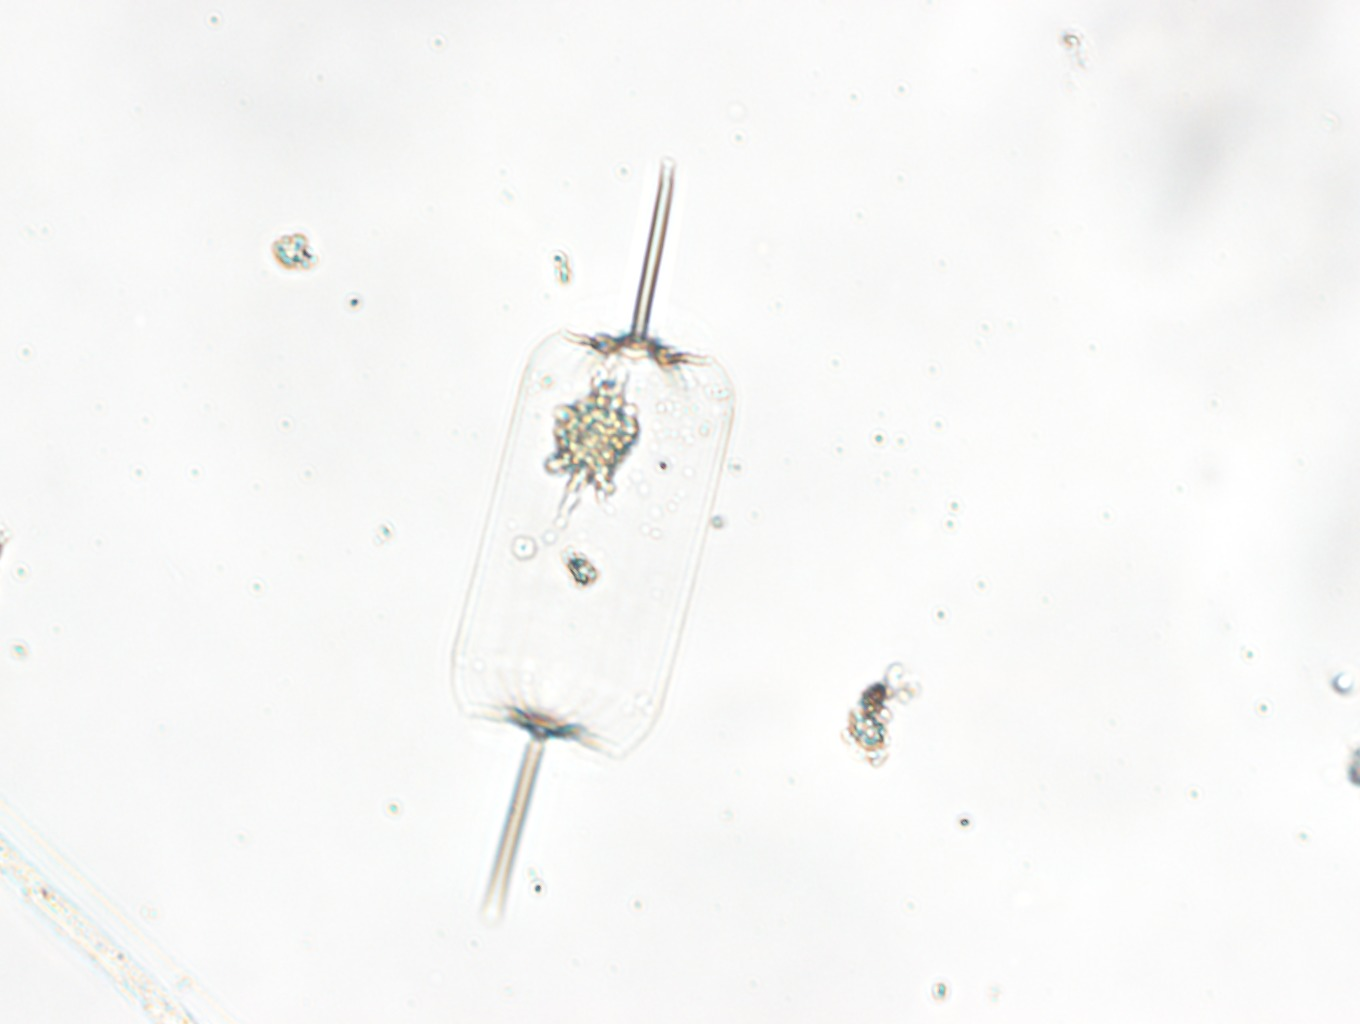ditylum: (448, 157, 735, 924)
